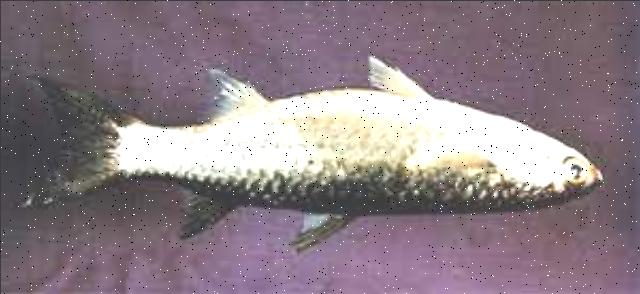Mulut: (577, 150, 609, 202)
Sirip Anal: (185, 59, 269, 132)
Sirip Dada: (394, 130, 498, 182)
Sirip Ekor: (14, 72, 114, 224)
Sirip Perut: (356, 47, 436, 114)
Sirip Punggung: (162, 182, 364, 272)
